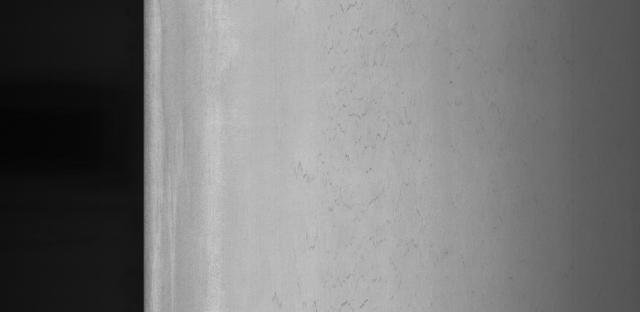silk_spot: (257, 7, 428, 312)
